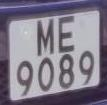0: (36, 54, 58, 95)
8: (56, 51, 77, 92)
9: (13, 54, 37, 99), (76, 48, 96, 90)
E: (57, 14, 80, 56)
M: (33, 16, 58, 60)
